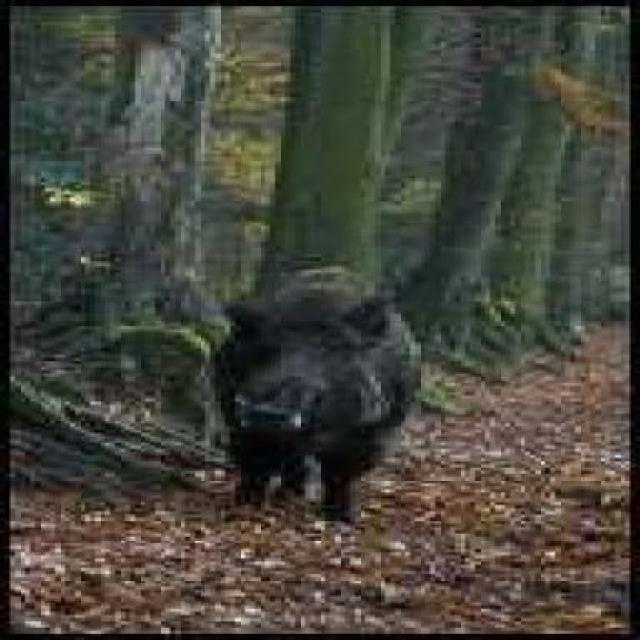pig: (211, 245, 419, 518)
